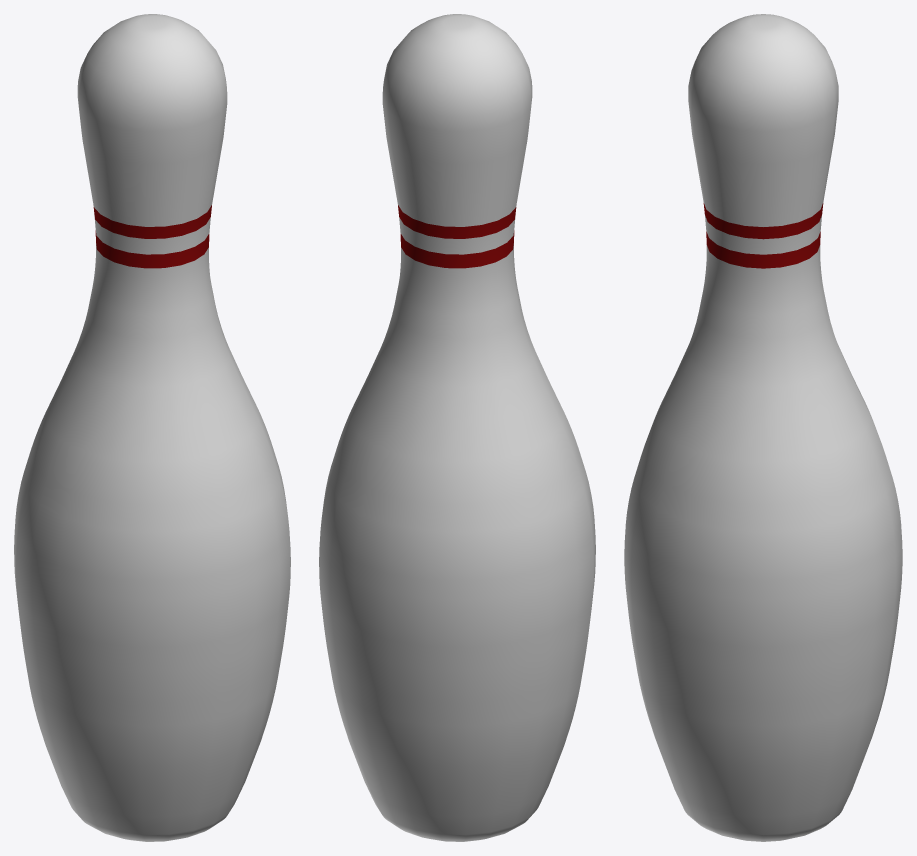
Rendered from pin.obj.
3 views of the same model, side by side, from view 1: azimuth 30°, elevation 25°; view 2: azimuth 150°, elevation 25°; view 3: azimuth 270°, elevation 25° (orthographic).
Visible parts, largest first — view 1: pin; view 2: pin; view 3: pin.
Boxes of the visible parts, box(x1,y1,x2,y2) form: pin: box(14, 14, 290, 841); pin: box(319, 14, 595, 841); pin: box(624, 14, 902, 841).
Size of the model in its own units: 0.12 by 0.38 by 0.12.
